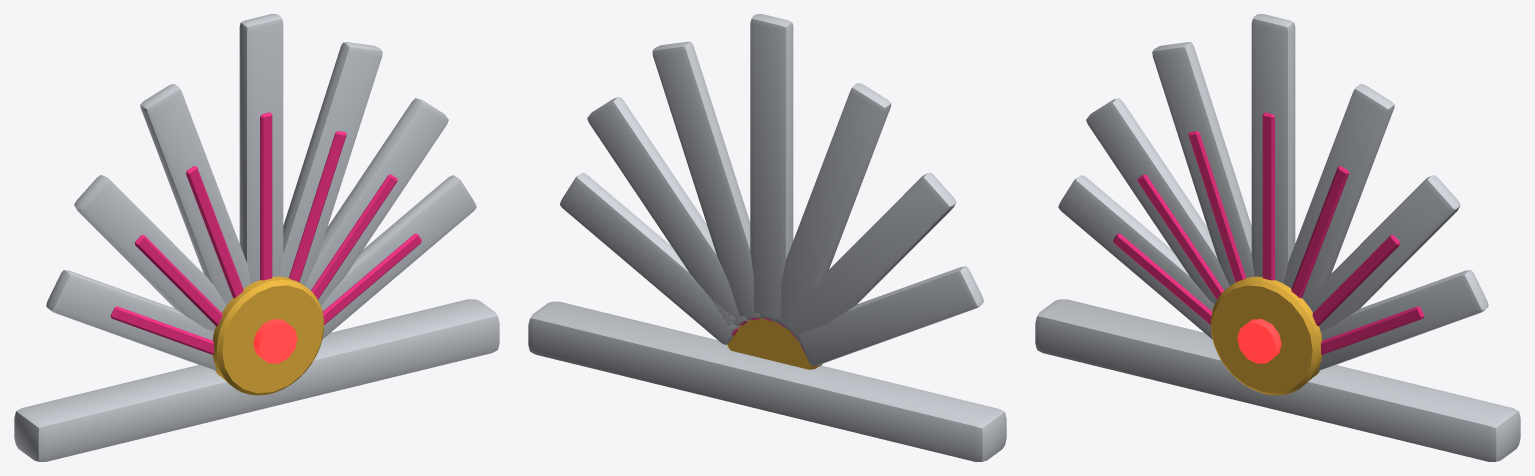
The model's file is rear_ornament_metal.glb.
The picture shows the model from 3 angles, left to right: view 1: azimuth 30°, elevation 25°; view 2: azimuth 150°, elevation 25°; view 3: azimuth 330°, elevation 25°; orthographic projection.
Parts seen in each view (by area): view 1: chrome, paint_pink, paint_gold, lamp_red; view 2: chrome, paint_gold; view 3: chrome, paint_pink, paint_gold, lamp_red.
Boxes of the visible parts, x1,y1,x2,y2 form: chrome: (14,14,499,461); paint_pink: (110,112,421,354); paint_gold: (212,276,323,395); lamp_red: (253,319,297,363); chrome: (528,14,1006,461); paint_gold: (727,318,822,369); chrome: (1035,14,1520,461); paint_pink: (1113,112,1424,354); paint_gold: (1211,276,1322,395); lamp_red: (1237,319,1281,363).
Size of the model in its own units: 1.2 by 0.95 by 0.155.
